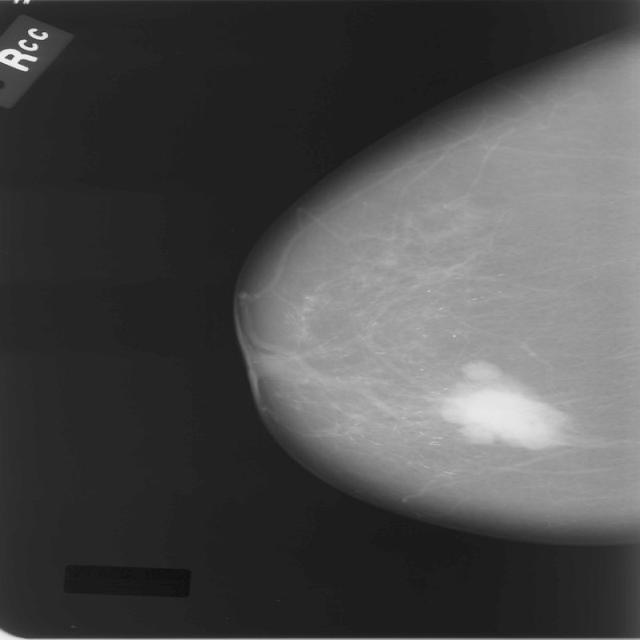tumour: (443, 362, 566, 448)
